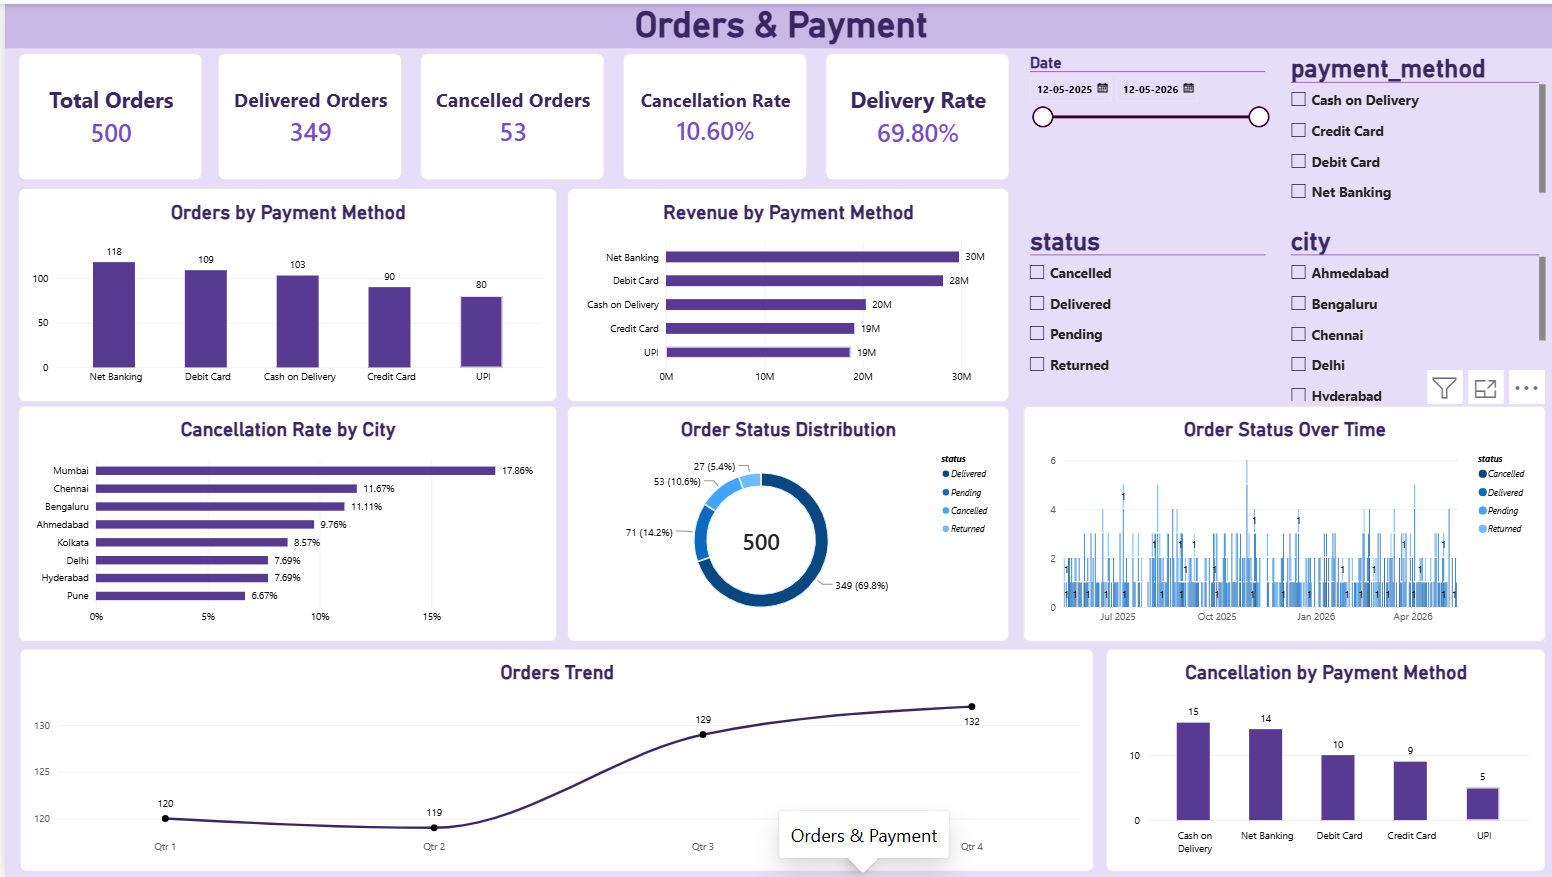

Layout of this report page (visuals, bound fields, positions):
{"tool":"powerbi","page":{"name":"Orders & Payment","canvas":[1920,1080],"ordinal":3},"visuals":[{"type":"cardVisual","fields":{"Data":["orders.Delivered Orders"]},"box":[263.5,61.3,227.1,156.7],"z":0},{"type":"cardVisual","fields":{"Data":["orders.Cancelled Orders"]},"box":[513.3,61.3,227.1,156.7],"z":1000},{"type":"cardVisual","fields":{"Data":["orders.Cancellation Rate"]},"box":[763.2,61.3,227.1,156.7],"z":2000},{"type":"cardVisual","fields":{"Data":["orders.Delivery Rate"]},"box":[1013,61.3,227.1,156.7],"z":3000},{"type":"columnChart","title":"Orders by Payment Method","fields":{"Category":["orders.payment_method"],"Y":["orders.Total Orders"]},"box":[15.9,227.1,665.5,263.5],"z":4000},{"type":"barChart","title":"Revenue by Payment Method","fields":{"Category":["orders.payment_method"],"Y":["order_items.Total Revenue"]},"box":[695,227.1,545.1,263.5],"z":5000},{"type":"barChart","title":"Cancellation Rate by City","fields":{"Category":["customers.city"],"Y":["orders.Cancellation Rate"]},"box":[15.9,497.4,665.5,290.7],"z":6000},{"type":"donutChart","title":"Order Status Distribution","fields":{"Category":["orders.status"],"Y":["orders.Total Orders"]},"box":[695,497.4,545.1,290.7],"z":7000},{"type":"columnChart","title":"Cancellation by Payment Method","fields":{"Category":["orders.payment_method"],"Y":["orders.Cancelled Orders"]},"box":[1360.5,797.2,542.8,274.8],"z":8000},{"type":"lineChart","title":"Orders Trend","fields":{"Category":["DateTable.Date.Variation.Date Hierarchy.Year","DateTable.Date.Variation.Date Hierarchy.Quarter","DateTable.Date.Variation.Date Hierarchy.Month","DateTable.Date.Variation.Date Hierarchy.Day"],"Y":["orders.Total Orders"]},"box":[18.2,797.2,1326.4,274.8],"z":9000},{"type":"textbox","title":"Orders & Payment","box":[0,0,1919.3,54.5],"z":10000},{"type":"columnChart","title":"Order Status Over Time","fields":{"Category":["DateTable.Date"],"Series":["orders.status"],"Y":["orders.Total Orders"]},"box":[1258.3,497.4,645.1,290.7],"z":11000},{"type":"cardVisual","fields":{"Data":["orders.Total Orders"]},"box":[15.9,61.3,227.1,156.1],"z":12000},{"type":"slicer","fields":{"Values":["DateTable.Date"]},"box":[1258.3,61.3,306.6,197.6],"z":12001},{"type":"slicer","fields":{"Values":["orders.payment_method"]},"box":[1580.8,61.3,322.5,197.6],"z":12002},{"type":"slicer","fields":{"Values":["orders.status"]},"box":[1258.3,274.8,306.6,215.8],"z":12003},{"type":"slicer","fields":{"Values":["customers.city"]},"box":[1580.8,274.8,322.5,215.8],"z":12004}]}

Visuals, with their boxes in screenshot pixels (x1, y1, x2, y2), scaled from the page's 1920x1080 canvas onto the 1552x877 screenshot:
cardVisual - orders.Delivered Orders: (213, 50, 397, 177)
cardVisual - orders.Cancelled Orders: (415, 50, 598, 177)
cardVisual - orders.Cancellation Rate: (617, 50, 800, 177)
cardVisual - orders.Delivery Rate: (819, 50, 1002, 177)
"Orders by Payment Method" columnChart: (13, 184, 551, 398)
"Revenue by Payment Method" barChart: (562, 184, 1002, 398)
"Cancellation Rate by City" barChart: (13, 404, 551, 640)
"Order Status Distribution" donutChart: (562, 404, 1002, 640)
"Cancellation by Payment Method" columnChart: (1100, 647, 1539, 871)
"Orders Trend" lineChart: (15, 647, 1087, 871)
"Orders & Payment" textbox: (0, 0, 1551, 44)
"Order Status Over Time" columnChart: (1017, 404, 1539, 640)
cardVisual - orders.Total Orders: (13, 50, 196, 177)
slicer - DateTable.Date: (1017, 50, 1265, 210)
slicer - orders.payment_method: (1278, 50, 1539, 210)
slicer - orders.status: (1017, 223, 1265, 398)
slicer - customers.city: (1278, 223, 1539, 398)
